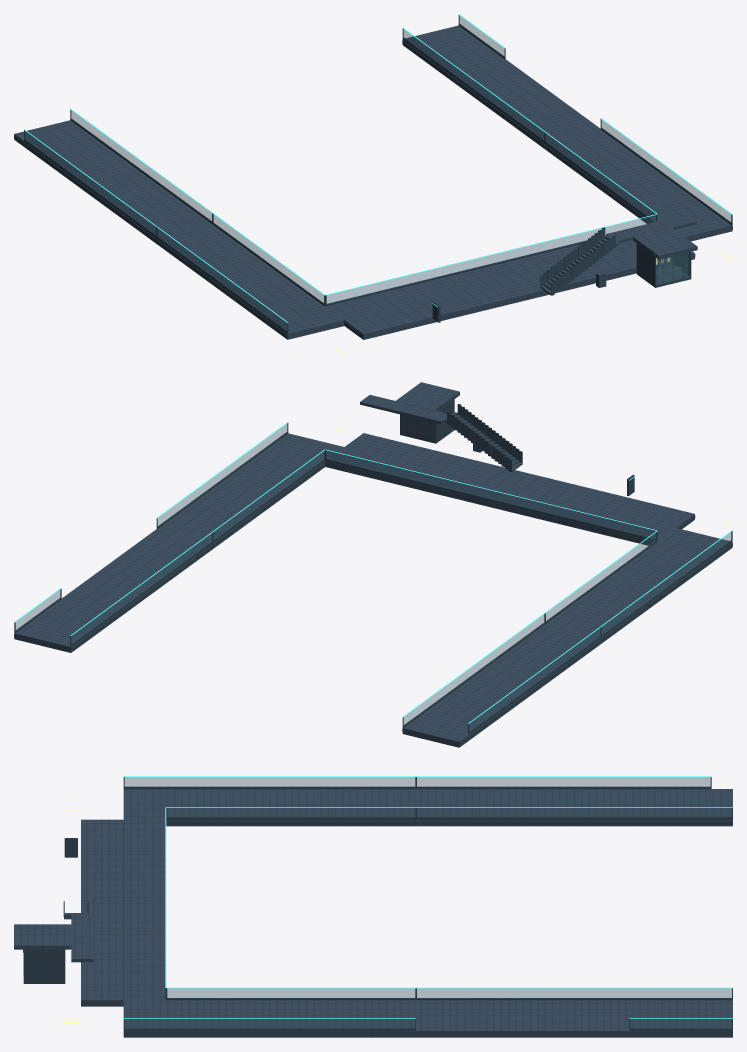
The model's file is east-loggia-portal-1.glb.
3 renders of one model, top to bottom at view 1: azimuth 30°, elevation 25°; view 2: azimuth 150°, elevation 25°; view 3: azimuth 270°, elevation 25°, orthographic. The views are drawn at different scales.
Visible parts, largest first — view 1: east-loggia-portal-1::detail-market-shop-volume, east-loggia-portal-1::detail-market-shop-glass, east-loggia-portal-1::detail-fascia-gallery-E-24-300--1, east-loggia-portal-1::kiosk-trim-market-info; view 2: east-loggia-portal-1::detail-market-shop-volume, east-loggia-portal-1::detail-market-shop-glass, east-loggia-portal-1::detail-fascia-gallery-E-24-300--1, east-loggia-portal-1::kiosk-trim-market-info; view 3: east-loggia-portal-1::detail-market-shop-volume, east-loggia-portal-1::detail-market-shop-glass, east-loggia-portal-1::detail-fascia-gallery-E-24-300--1, east-loggia-portal-1::kiosk-trim-market-info.
Part boxes in pixels (box(x1,y1,x2,y2)): east-loggia-portal-1::detail-market-shop-volume: box(14, 25, 732, 339); east-loggia-portal-1::detail-market-shop-glass: box(24, 15, 730, 330); east-loggia-portal-1::detail-fascia-gallery-E-24-300--1: box(14, 15, 732, 337); east-loggia-portal-1::kiosk-trim-market-info: box(24, 14, 732, 322); east-loggia-portal-1::detail-market-shop-volume: box(14, 382, 732, 747); east-loggia-portal-1::detail-market-shop-glass: box(16, 423, 731, 731); east-loggia-portal-1::detail-fascia-gallery-E-24-300--1: box(14, 394, 732, 745); east-loggia-portal-1::kiosk-trim-market-info: box(14, 422, 732, 723); east-loggia-portal-1::detail-market-shop-volume: box(14, 789, 732, 1037); east-loggia-portal-1::detail-market-shop-glass: box(125, 777, 731, 1028); east-loggia-portal-1::detail-fascia-gallery-E-24-300--1: box(23, 777, 732, 1035); east-loggia-portal-1::kiosk-trim-market-info: box(123, 776, 732, 1018).
Bounding box in the file's own units: 47.1 × 5.16 × 59.
Materials: 5 (1 with a texture image).
